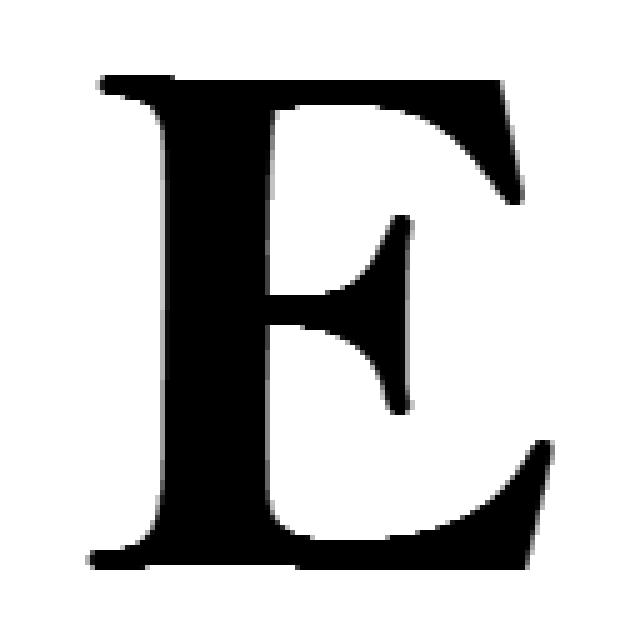E: (90, 75, 550, 570)
